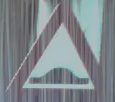Speed Breaker ahead: (11, 7, 99, 87)
